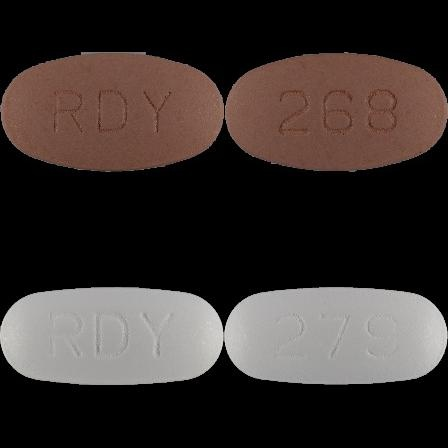55111-268: (0, 0, 224, 224)
